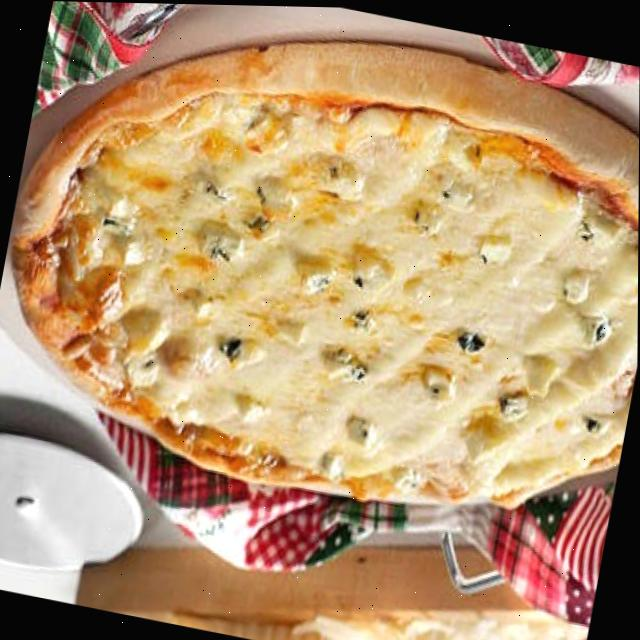pizza: (0, 0, 640, 548)
